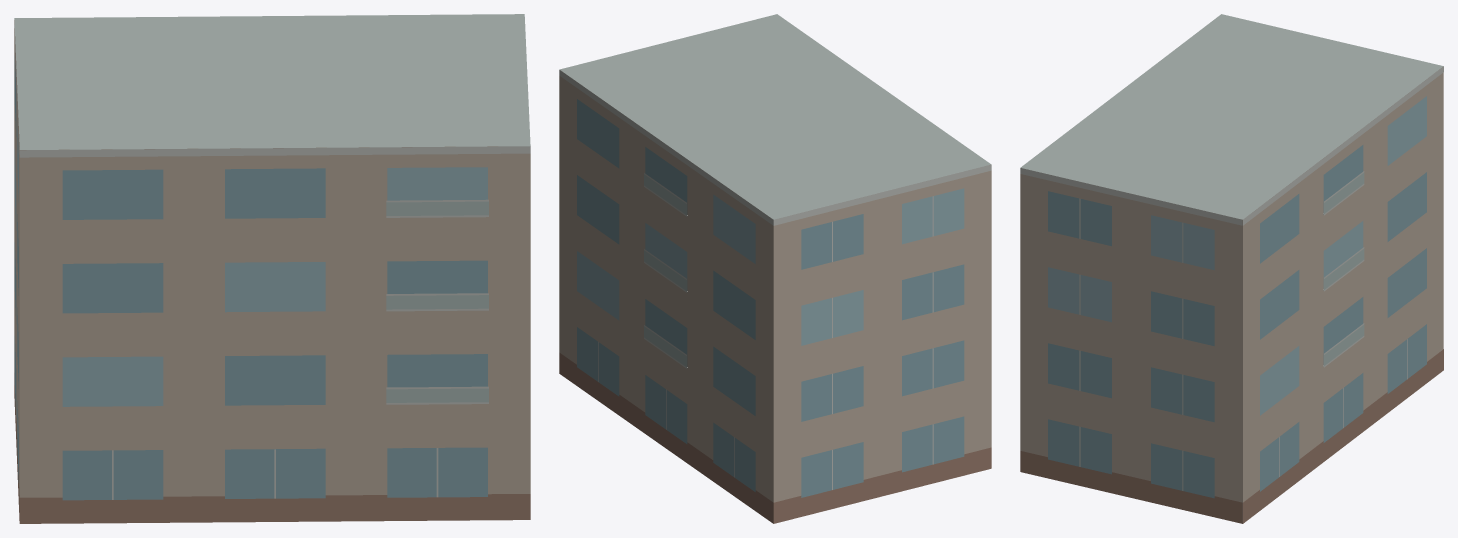
Rendered from residential-214eba63-d724-41e9-8ea9-e5cf5c4a70d9.glb.
3 renders of one model, left to right at view 1: azimuth 30°, elevation 25°; view 2: azimuth 150°, elevation 25°; view 3: azimuth 270°, elevation 25°, orthographic. The views are drawn at different scales.
Parts seen in each view (by area): view 1: residential-214eba63-d724-41e9-8ea9-e5cf5c4a70d9.tmp; view 2: residential-214eba63-d724-41e9-8ea9-e5cf5c4a70d9.tmp; view 3: residential-214eba63-d724-41e9-8ea9-e5cf5c4a70d9.tmp.
Boxes of the visible parts, left/top/right/bottom form: residential-214eba63-d724-41e9-8ea9-e5cf5c4a70d9.tmp: left=14, top=14, right=530, bottom=523; residential-214eba63-d724-41e9-8ea9-e5cf5c4a70d9.tmp: left=559, top=14, right=991, bottom=523; residential-214eba63-d724-41e9-8ea9-e5cf5c4a70d9.tmp: left=1020, top=14, right=1443, bottom=523.
Bounding box in the file's own units: 17.71 × 12.2 × 15.41.
